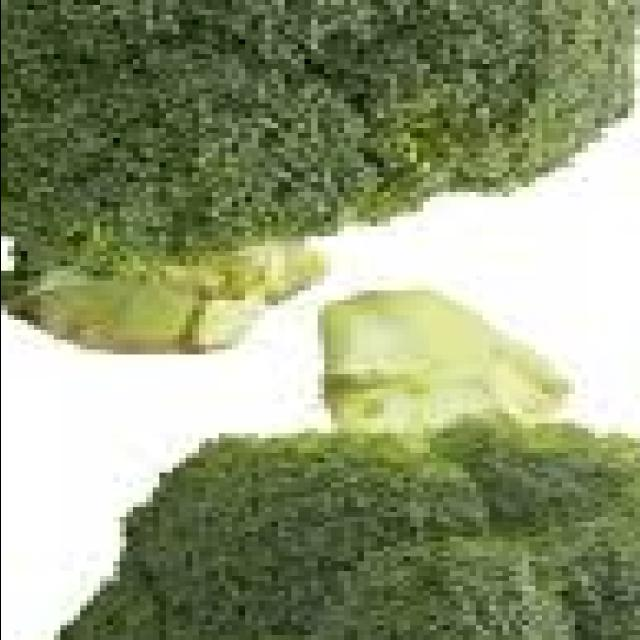broccoli: (50, 290, 640, 640)
